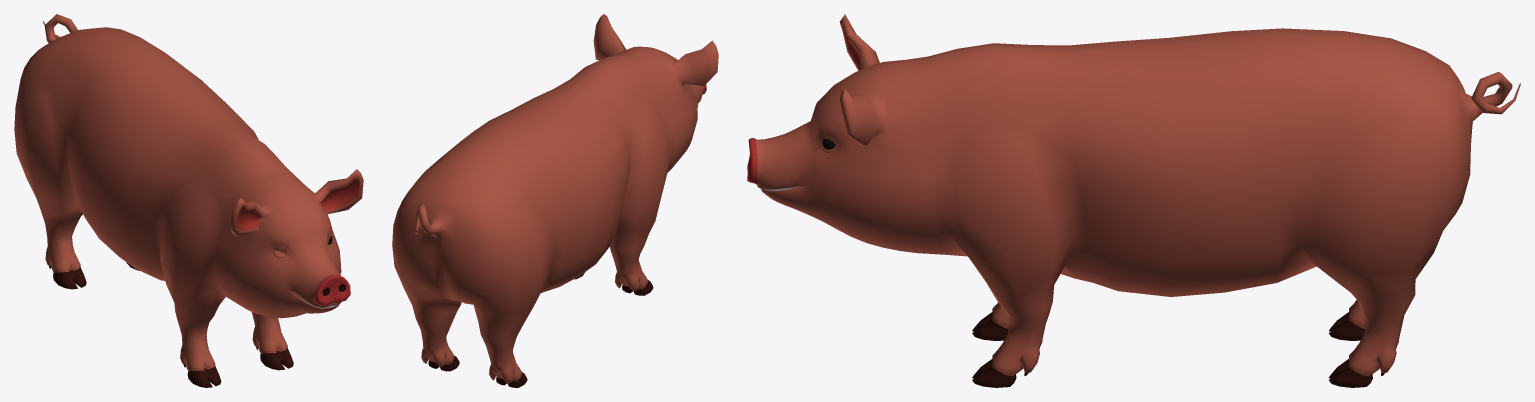
The model's file is pig.obj.
The picture shows the model from 3 angles, left to right: view 1: azimuth 30°, elevation 25°; view 2: azimuth 150°, elevation 25°; view 3: azimuth 270°, elevation 25°; orthographic projection. The views are drawn at different scales.
Parts seen in each view (by area): view 1: pig; view 2: pig; view 3: pig.
Boxes of the visible parts, <box> form: pig: <box>14,14,363,387</box>; pig: <box>392,14,718,387</box>; pig: <box>747,14,1520,387</box>.
Size of the model in its own units: 0.5229 by 0.8263 by 1.8.
